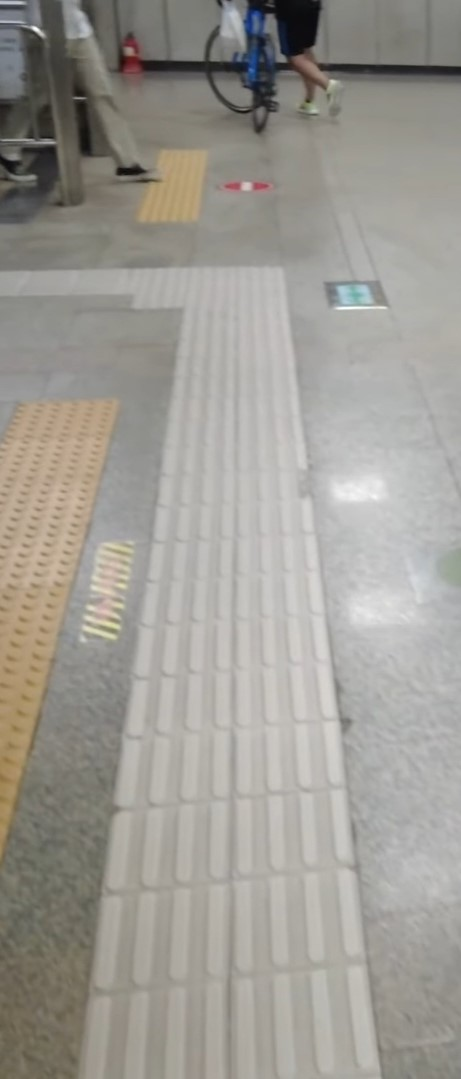guideBlock: (94, 800, 253, 899), (253, 966, 386, 1078), (100, 1003, 251, 1079), (220, 723, 357, 793), (235, 871, 348, 950), (230, 802, 366, 867), (115, 906, 229, 982), (226, 674, 343, 736), (248, 629, 361, 688), (120, 731, 226, 788), (135, 671, 228, 728), (139, 623, 230, 666)
